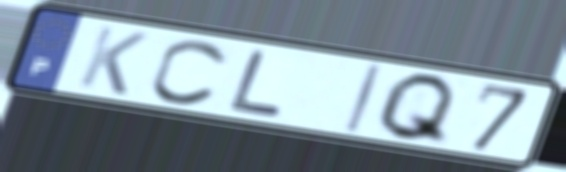7: (467, 80, 535, 153)
C: (147, 37, 234, 109)
I: (342, 61, 387, 136)
K: (73, 22, 153, 98)
L: (225, 47, 289, 119)
Q: (371, 71, 461, 149)
